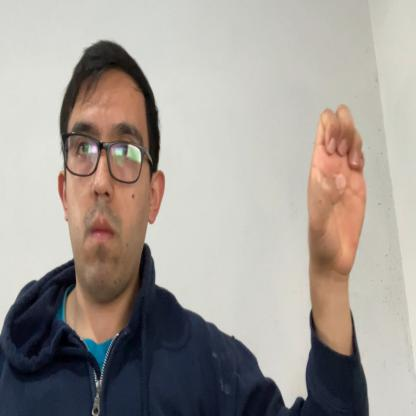E: (306, 103, 368, 279)
